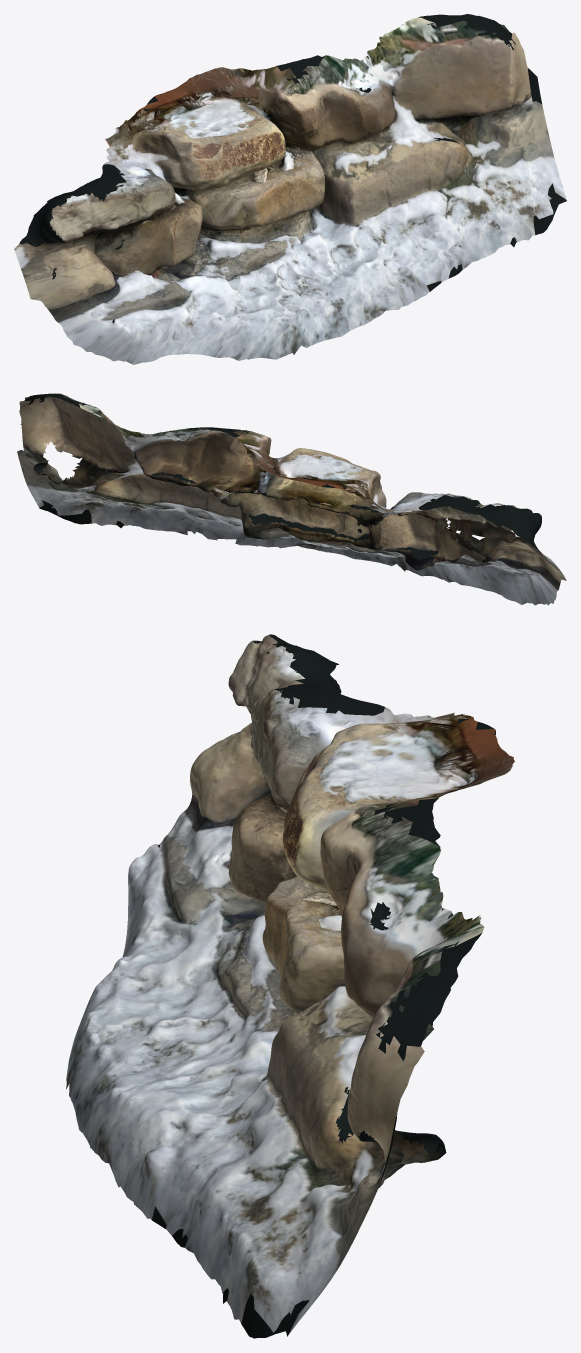
Rendered from 3d_scanned_snowy_rock_formation.glb.
The picture shows the model from 3 angles, top to bottom: view 1: azimuth 30°, elevation 25°; view 2: azimuth 150°, elevation 25°; view 3: azimuth 270°, elevation 25°; orthographic projection. The views are drawn at different scales.
Visible parts, largest first — view 1: Object_2, Object_4, Object_3, Object_5; view 2: Object_2, Object_4, Object_5, Object_3; view 3: Object_2, Object_4, Object_3, Object_5.
Boxes of the visible parts, <box> form: Object_2: <box>18,20,566,361</box>; Object_4: <box>63,28,535,364</box>; Object_3: <box>14,41,510,361</box>; Object_5: <box>19,14,566,361</box>; Object_2: <box>17,393,566,604</box>; Object_4: <box>19,394,556,605</box>; Object_5: <box>20,393,565,605</box>; Object_3: <box>45,399,560,604</box>; Object_2: <box>134,641,486,1333</box>; Object_4: <box>66,708,514,1323</box>; Object_3: <box>130,634,433,1194</box>; Object_5: <box>66,634,512,1338</box>.
Size of the model in its own units: 20.9 by 7.24 by 7.89.
3 materials, 3 textured.
